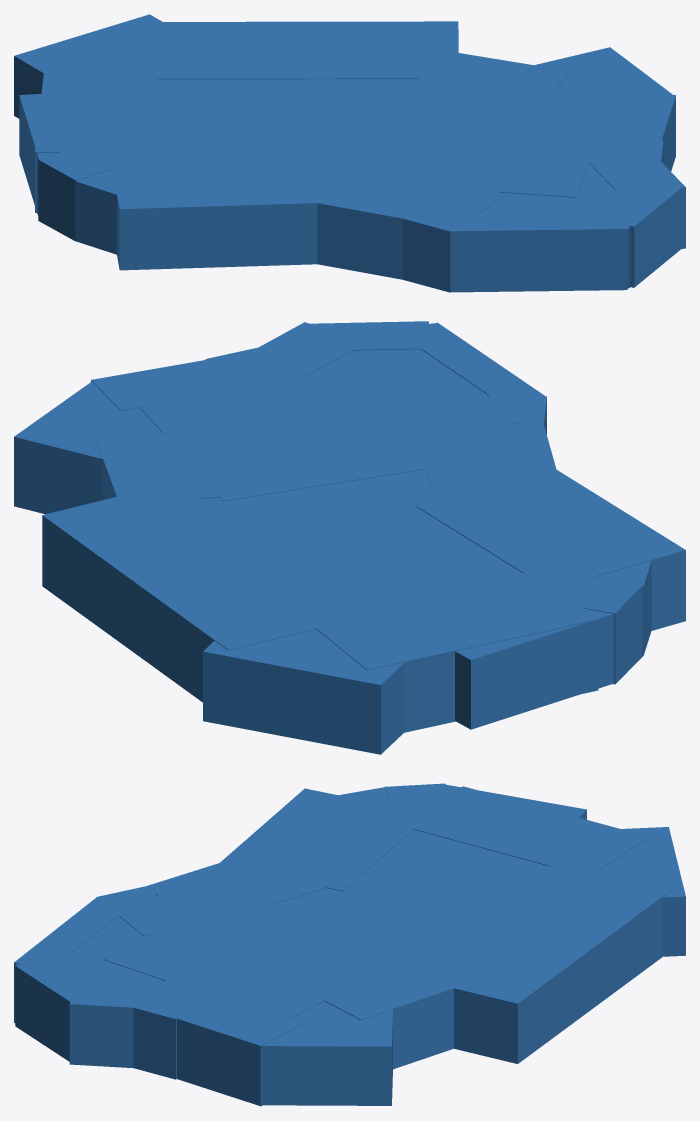
Rendered from p_PuddleButterflyMain.fbx.
The picture shows the model from 3 angles, top to bottom: view 1: azimuth 30°, elevation 25°; view 2: azimuth 150°, elevation 25°; view 3: azimuth 270°, elevation 25°; orthographic projection. The views are drawn at different scales.
Visible parts, largest first — view 1: Water__23_, Water__19_, Water__5_, Water__18_, Water__9_, Water__21_, Water__13_, Water__6_, Water__16_, Water__11_, Water__22_, Water__14_ (+8 smaller); view 2: Water__5_, Water__19_, Water__18_, Water__23_, Water__21_, Water__17_, Water__8_, Water__12_, Water__22_, Water__16_, Water__14_, Water__4_ (+8 smaller); view 3: Water__5_, Water__19_, Water__18_, Water__12_, Water__23_, Water__21_, Water__14_, Water__16_, Water__7_, Water__6_, Water__22_, Water__17_ (+8 smaller).
Boxes of the visible parts, x1,y1,x2,y2 form: Water__23_: [112, 143, 322, 270]; Water__19_: [367, 84, 606, 197]; Water__5_: [140, 21, 458, 79]; Water__18_: [148, 79, 419, 162]; Water__9_: [449, 212, 627, 292]; Water__21_: [35, 57, 158, 212]; Water__13_: [277, 184, 417, 279]; Water__6_: [585, 176, 682, 287]; Water__16_: [411, 51, 570, 109]; Water__11_: [403, 181, 506, 292]; Water__22_: [281, 151, 461, 209]; Water__14_: [592, 91, 675, 171]; Water__5_: [42, 482, 362, 702]; Water__19_: [137, 363, 446, 501]; Water__18_: [201, 469, 522, 610]; Water__23_: [416, 467, 685, 630]; Water__21_: [307, 570, 598, 732]; Water__17_: [203, 629, 404, 754]; Water__8_: [455, 609, 613, 729]; Water__12_: [14, 381, 162, 514]; Water__22_: [413, 418, 522, 500]; Water__16_: [95, 431, 219, 503]; Water__14_: [91, 355, 260, 410]; Water__4_: [540, 572, 642, 684]; Water__5_: [403, 860, 673, 1063]; Water__19_: [104, 892, 415, 1021]; Water__18_: [275, 829, 549, 961]; Water__12_: [259, 1001, 392, 1105]; Water__23_: [218, 788, 424, 891]; Water__21_: [403, 786, 649, 876]; Water__14_: [158, 990, 301, 1106]; Water__16_: [318, 956, 461, 1069]; Water__7_: [69, 977, 185, 1068]; Water__6_: [15, 957, 117, 1061]; Water__22_: [158, 859, 325, 927]; Water__17_: [599, 827, 685, 956].
Size of the model in its own units: 932 by 100 by 1007.
